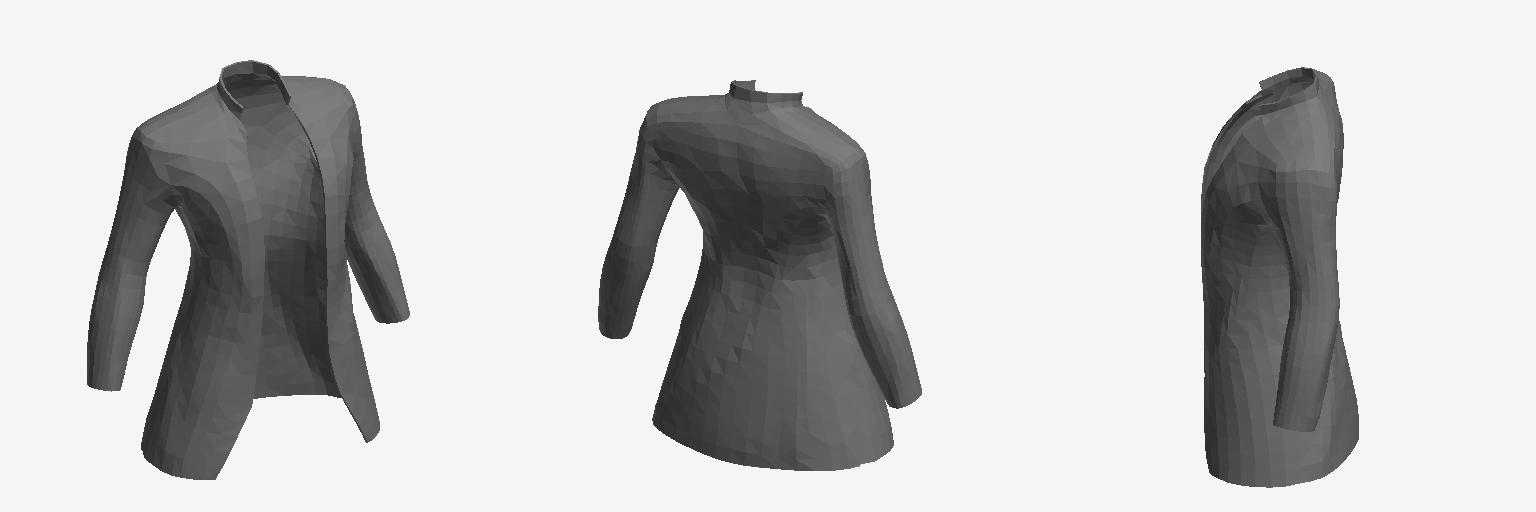
The model's file is LowPoly_Apostador_Jaqueta.obj.
The picture shows the model from 3 angles: view 1: azimuth 30°, elevation 25°; view 2: azimuth 150°, elevation 25°; view 3: azimuth 270°, elevation 25°; orthographic projection.
Parts seen in each view (by area): view 1: LowPoly_Apostador_Jaqueta; view 2: LowPoly_Apostador_Jaqueta; view 3: LowPoly_Apostador_Jaqueta.
Part boxes in pixels (x1,y1,x2,y2): LowPoly_Apostador_Jaqueta: (87,60,409,479); LowPoly_Apostador_Jaqueta: (598,80,921,470); LowPoly_Apostador_Jaqueta: (1201,67,1358,487).
Size of the model in its own units: 57.91 by 62.94 by 25.15.